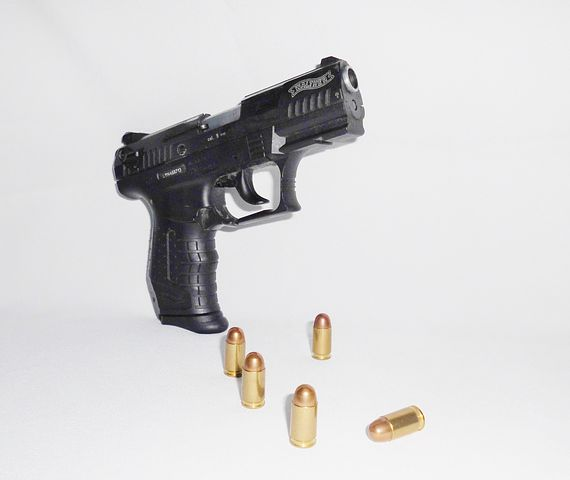gun: (114, 52, 381, 338)
